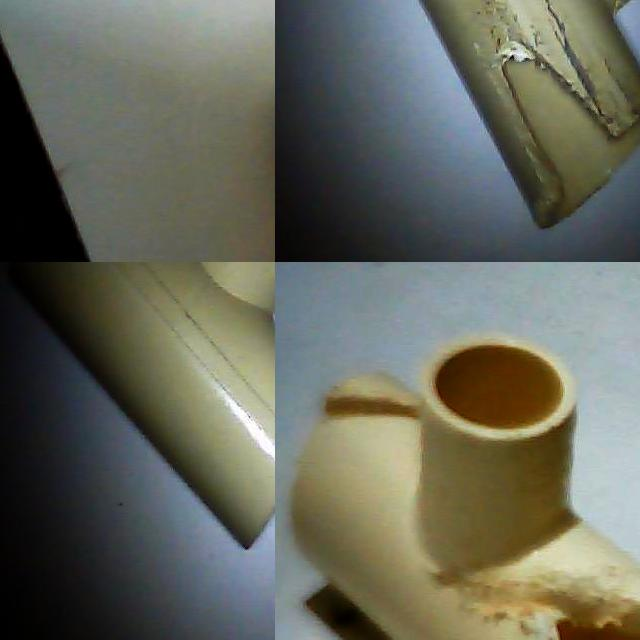Defective: (504, 61, 627, 195), (461, 566, 640, 640)
T Joint: (289, 334, 640, 640), (9, 262, 275, 552), (419, 0, 640, 232)
